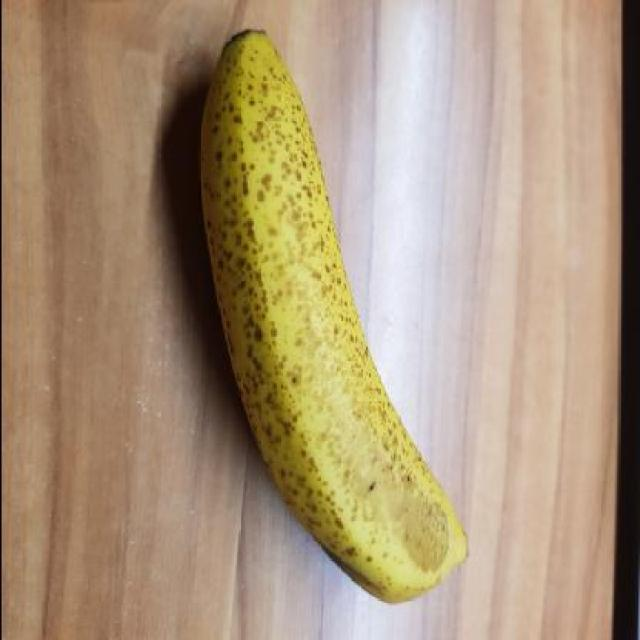Banana: (193, 23, 473, 614)
